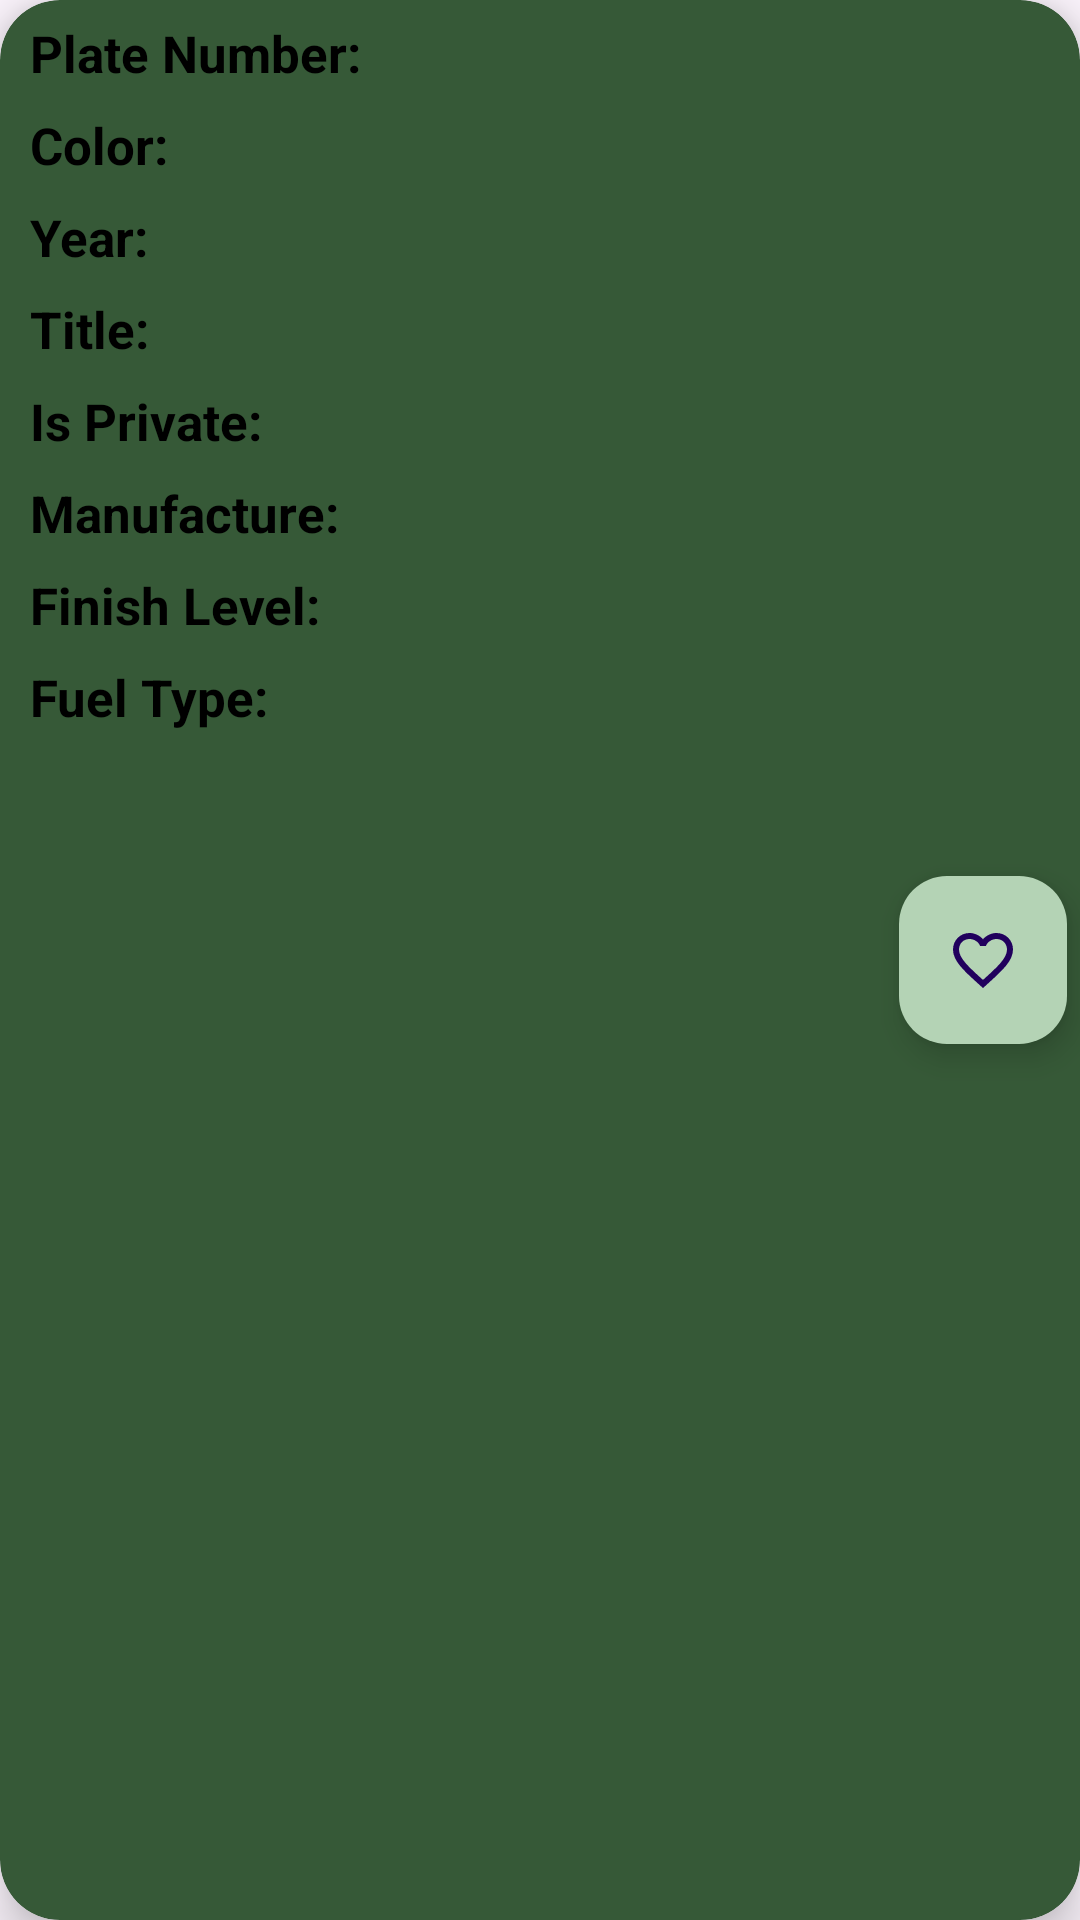

Screen size 1080px×1920px. Icon name, then its box in pixels as (x1, y1, x2, y2):
heart border: (899, 876, 1067, 1044)
